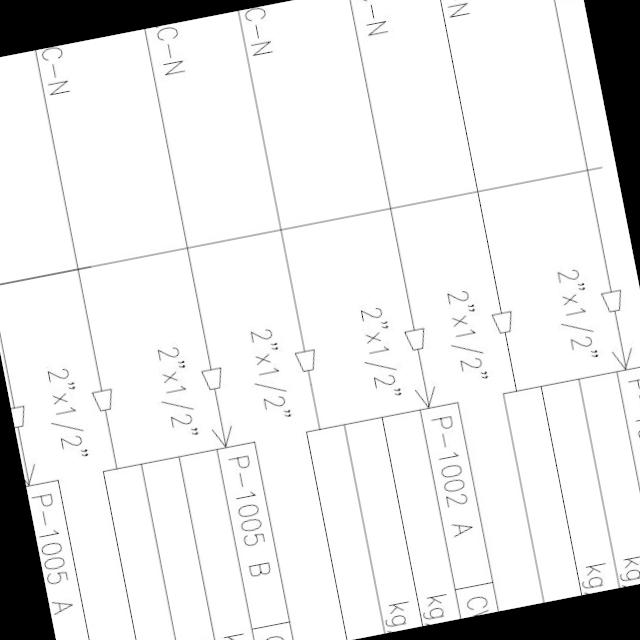SP: (290, 342, 323, 377), (197, 360, 230, 395), (488, 302, 520, 338), (596, 284, 628, 318), (400, 320, 432, 354), (88, 382, 120, 416)
